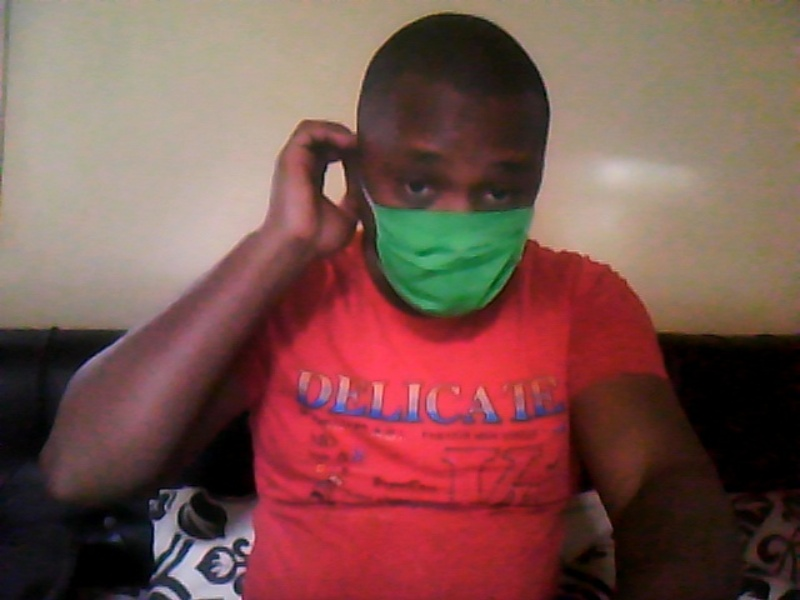ManaoArotava: (333, 36, 576, 324)
